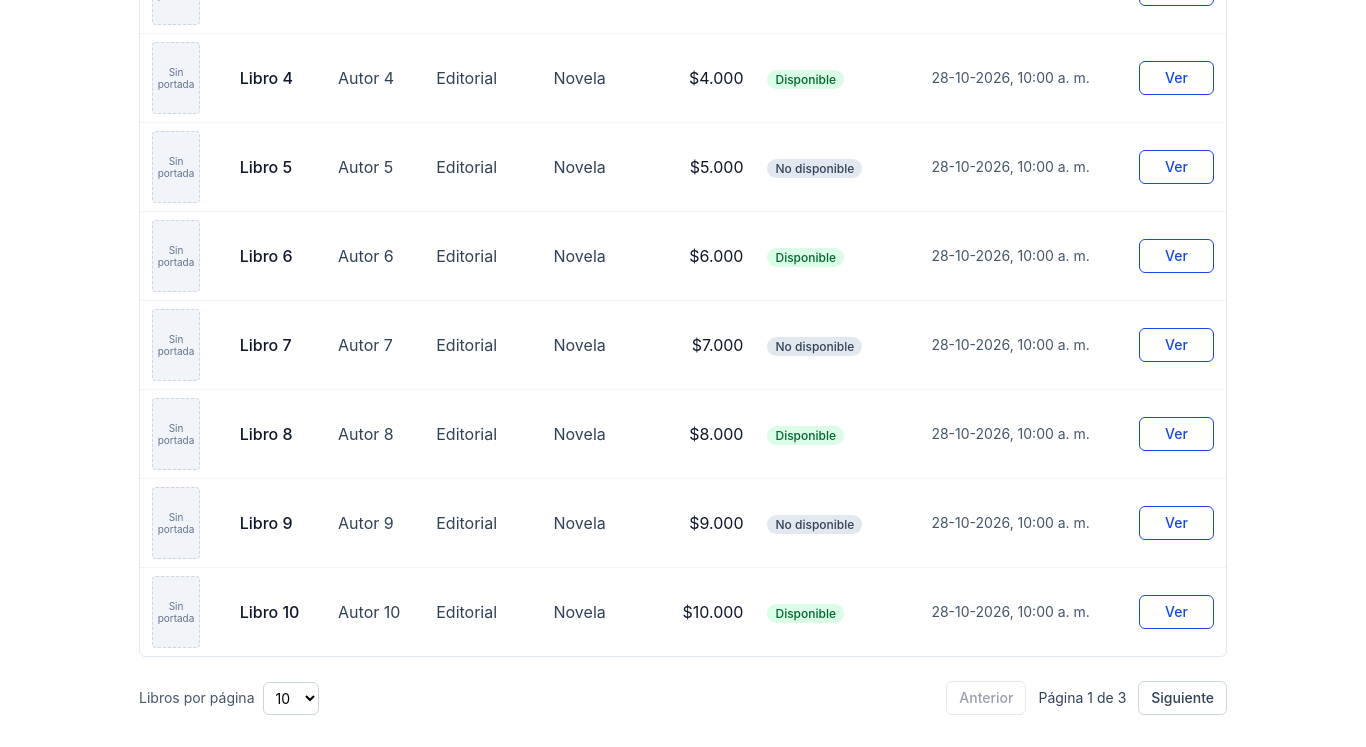
BooksPage › pagination › shows where the user is and moves between pages
(page scrolled)
Check: the text "Página 1 de 3" is shown, box [1038, 688, 1126, 708]
Check: the button "Anterior" is disabled, box [946, 681, 1026, 715]
Click the button "Siguiente" at (1183, 698), box [1138, 681, 1227, 715]
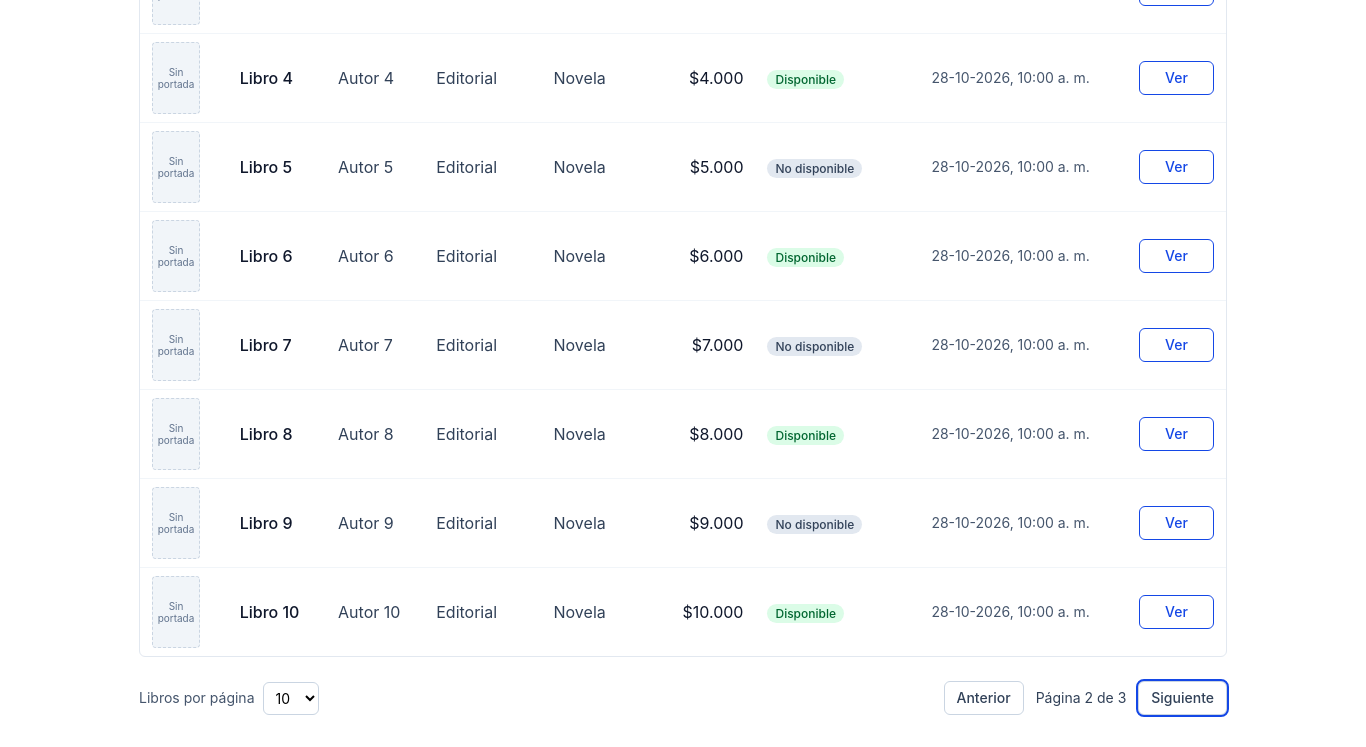
Check: the text "Página 2 de 3" is shown, box [1036, 688, 1126, 708]
Click the button "Siguiente" at (1183, 698), box [1138, 681, 1227, 715]
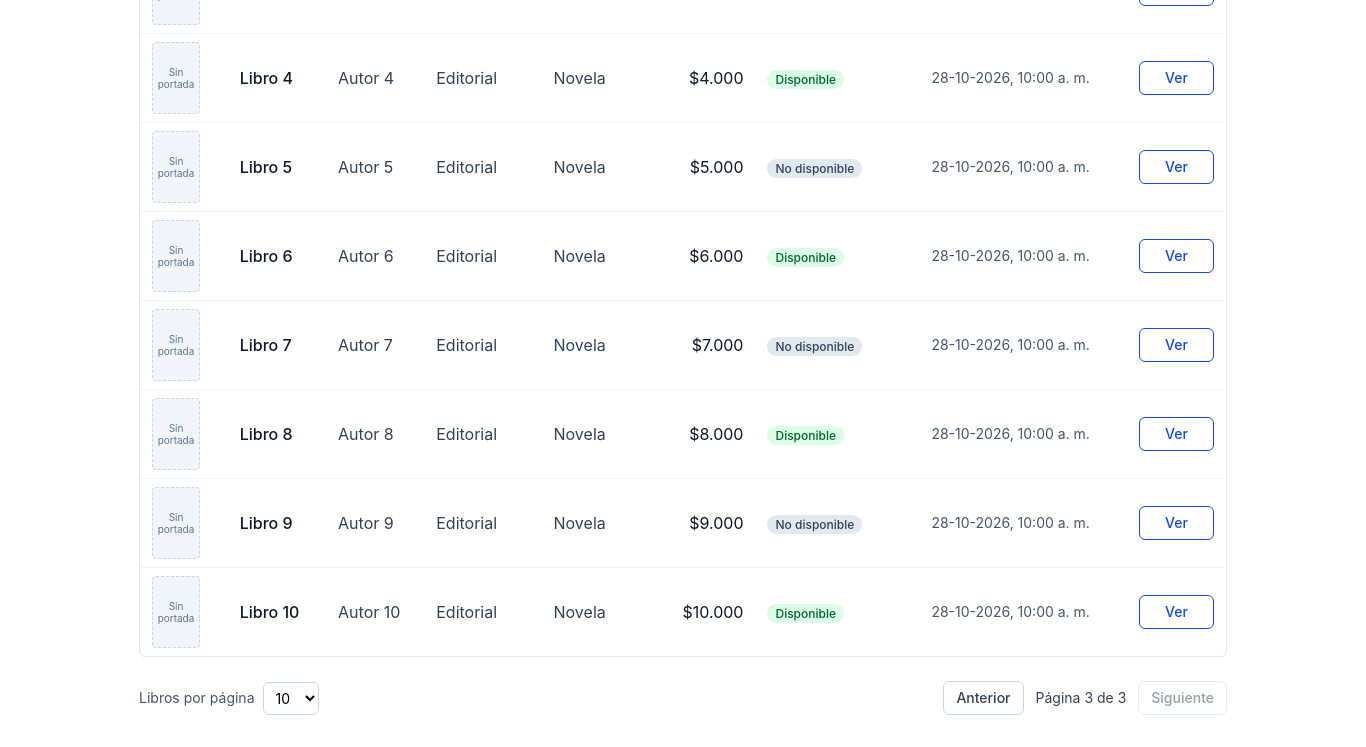
Check: the text "Página 3 de 3" is shown, box [1036, 688, 1126, 708]
Check: the button "Siguiente" is disabled, box [1138, 681, 1227, 715]
Click the button "Anterior" at (983, 698), box [943, 681, 1024, 715]
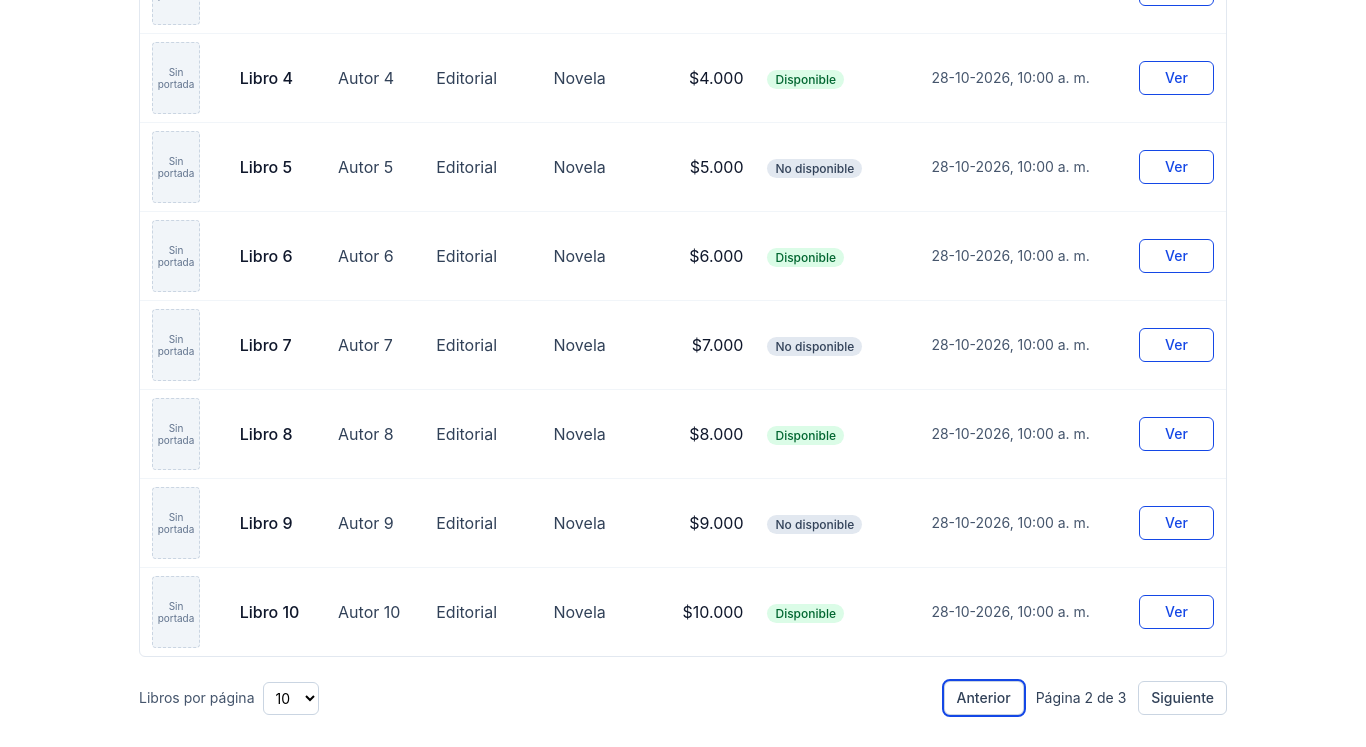
Check: the text "Página 2 de 3" is shown, box [1036, 688, 1126, 708]
